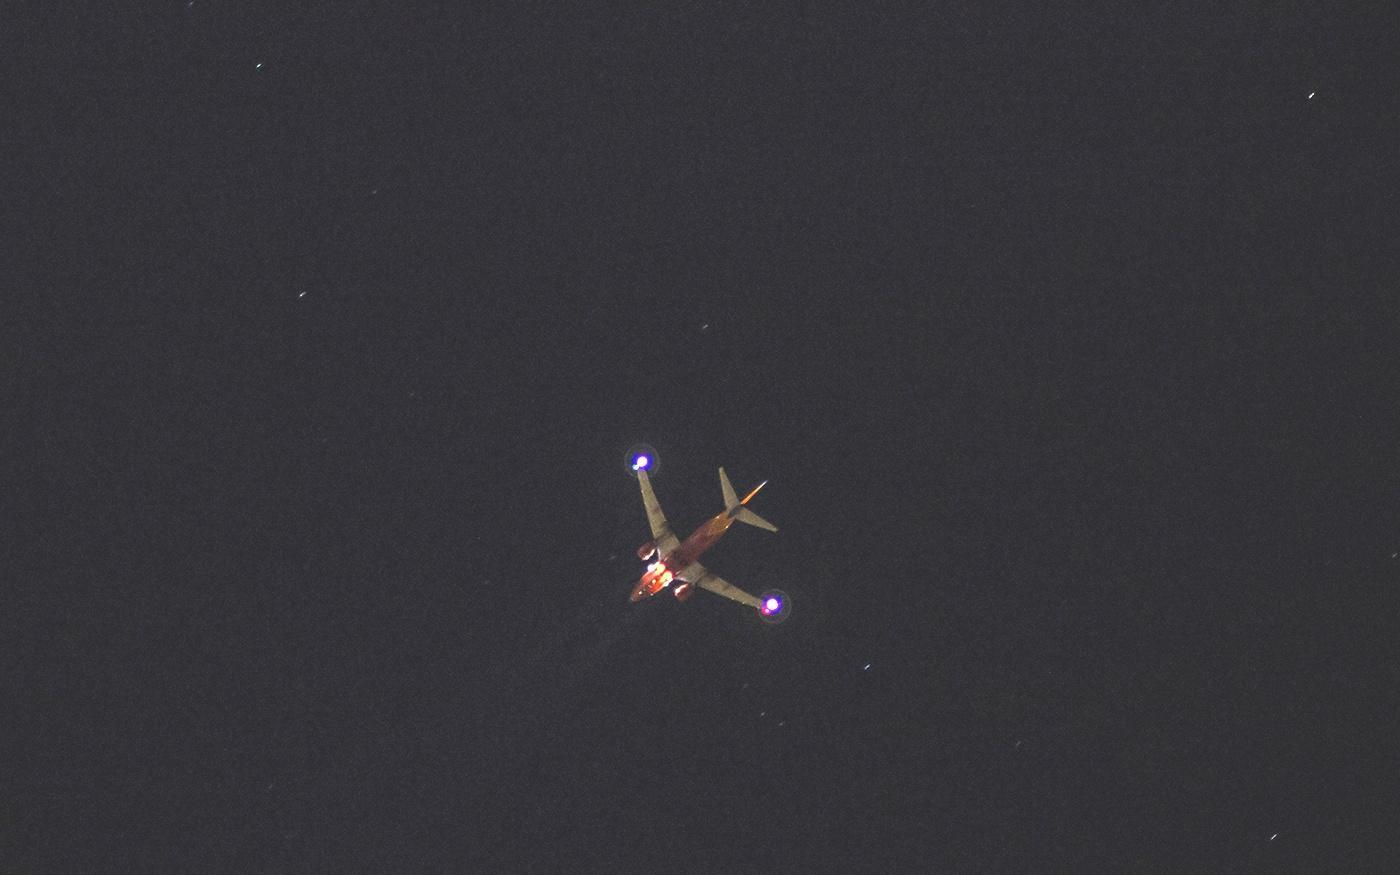Plane: (575, 405, 804, 674)
